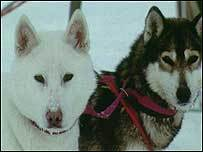dog: (78, 3, 202, 151), (1, 4, 96, 151)
